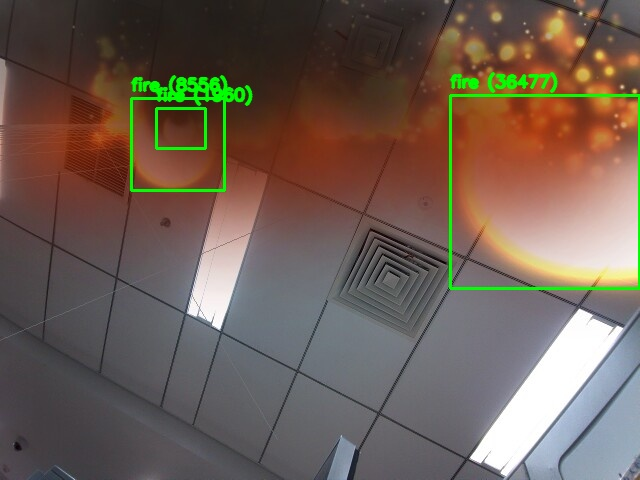fire: (450, 95, 639, 288), (131, 98, 224, 190), (156, 108, 205, 148)
